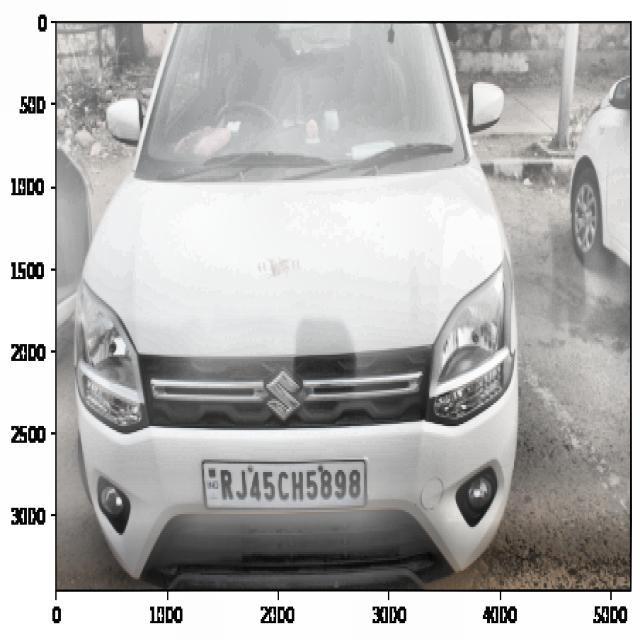license_plate: (214, 460, 365, 508)
